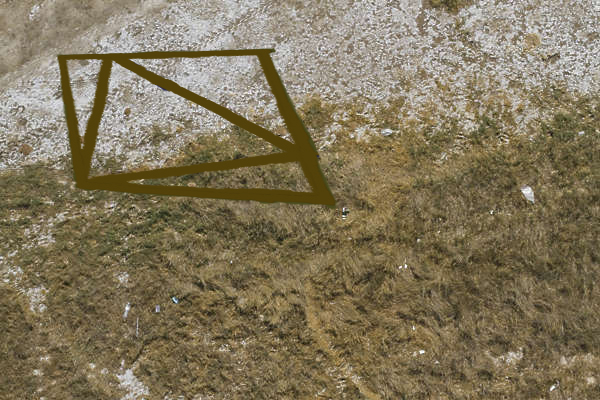marker: (53, 47, 338, 213)
